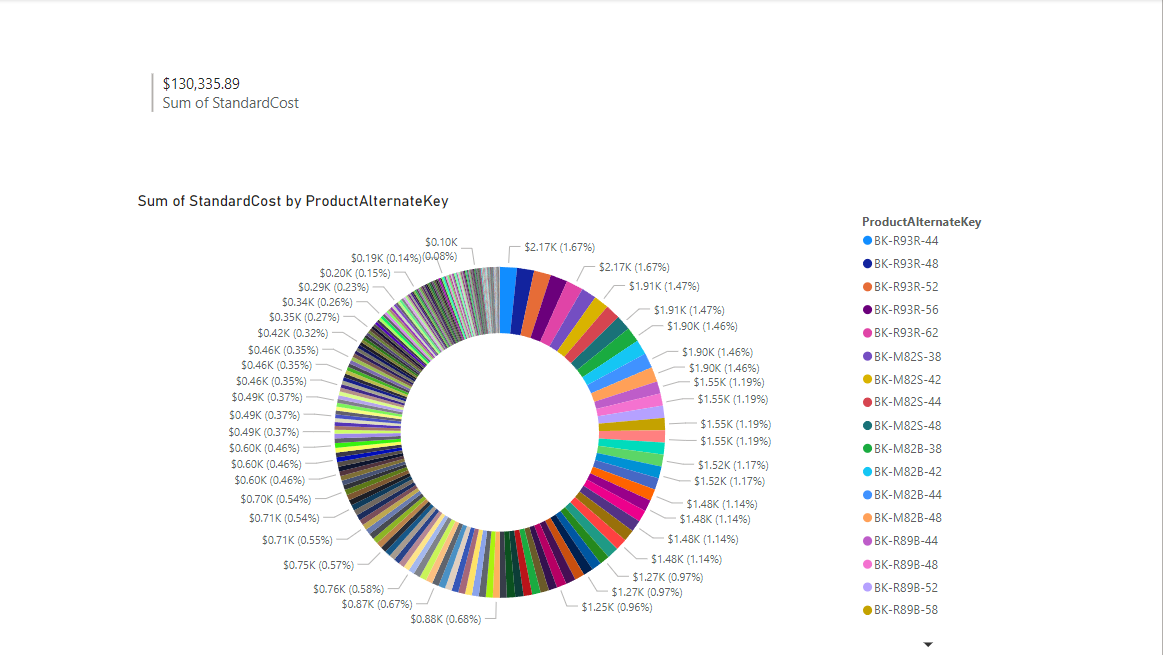

This screenshot's page, from the dashboard's own definition file:
{"tool":"powerbi","page":{"name":"Page 1","canvas":[1280,720],"ordinal":0},"visuals":[{"type":"multiRowCard","fields":{"Values":["Sum(DimProduct.StandardCost)"]},"box":[167.2,76.7,200.2,113.9],"z":0},{"type":"donutChart","fields":{"Y":["Sum(DimProduct.StandardCost)"],"Category":["DimProduct.ProductAlternateKey"]},"box":[167.2,190.6,947.8,436.6],"z":1}]}

Visuals, with their boxes in screenshot pixels (x1, y1, x2, y2), scaled from the page's 1280x720 canvas onto the 1163x655 screenshot:
multiRowCard - Sum(DimProduct.StandardCost): 152 70 334 173
donutChart - Sum(DimProduct.StandardCost) x DimProduct.ProductAlternateKey: 152 173 1013 571
